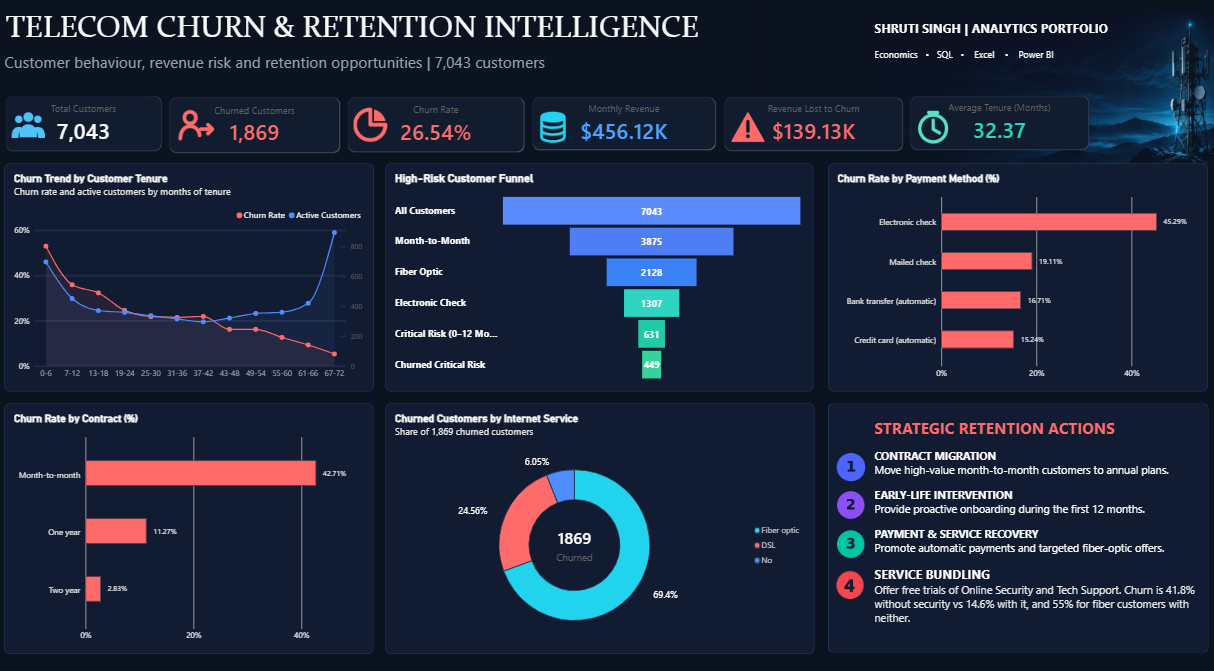

This screenshot's page, from the dashboard's own definition file:
{"tool":"powerbi","page":{"name":"Page 1","canvas":[2120,1178],"ordinal":0},"visuals":[{"type":"image","box":[1246.6,0,874.4,346.1],"z":0},{"type":"shape","box":[1441.7,710.5,660.2,432],"z":0,"group":"g1"},{"type":"textbox","box":[15.7,22.9,1230,87.1],"z":1000},{"type":"textbox","box":[1523,733.9,579.7,367.9],"z":1000,"group":"g1"},{"type":"textbox","box":[12.9,100,1130,52.9],"z":2000},{"type":"cardVisual","fields":{"Data":["telco_customer_churn_cleaned.Total Customers Display"]},"box":[16.2,177.5,270,96.2],"z":3000},{"type":"cardVisual","fields":{"Data":["telco_customer_churn_cleaned.Churned Customers Display"]},"box":[300,178.3,296.7,96.7],"z":4000},{"type":"cardVisual","fields":{"Data":["telco_customer_churn_cleaned.Churn Rate"]},"box":[608.3,178.3,306.7,95],"z":5000},{"type":"cardVisual","fields":{"Data":["telco_customer_churn_cleaned.Average Tenure"]},"box":[1586,178,310,94],"z":6000},{"type":"cardVisual","fields":{"Data":["telco_customer_churn_cleaned.Revenue Lost to Churn"]},"box":[1261.7,178.3,310,93.3],"z":7000},{"type":"cardVisual","fields":{"Data":["telco_customer_churn_cleaned.Monthly Revenue"]},"box":[928.3,178.3,318.3,91.7],"z":8000},{"type":"clusteredBarChart","title":"Churn Rate by Contract (%)","fields":{"Category":["telco_customer_churn_cleaned.Contract"],"Y":["telco_customer_churn_cleaned.Churn Rate"]},"box":[13,710.5,640.2,434.6],"z":9000},{"type":"clusteredBarChart","title":"Churn Rate by Payment Method (%)","fields":{"Category":["telco_customer_churn_cleaned.PaymentMethod"],"Y":["telco_customer_churn_cleaned.Churn Rate"]},"box":[1441.7,294.1,658.4,395.6],"z":10000},{"type":"lineChart","title":"Churn Trend by Customer Tenure","fields":{"Category":["telco_customer_churn_cleaned.Tenure Band"],"Y":["telco_customer_churn_cleaned.Churn Rate"],"Y2":["telco_customer_churn_cleaned.Active Customers"]},"box":[12.3,294.4,640.9,395.6],"z":11000},{"type":"donutChart","title":"Churned Customers by Internet Service","fields":{"Category":["telco_customer_churn_cleaned.InternetService"],"Y":["telco_customer_churn_cleaned.Total Customers"]},"box":[674,710.5,744.3,434.6],"z":12000},{"type":"funnel","title":"High-Risk Customer Funnel","fields":{"Category":["Risk Funnel Stages.Stage"],"Y":["Risk Funnel Stages.Risk Funnel Customers"]},"box":[674.6,294.4,742.1,395.6],"z":13000},{"type":"group","id":"g1","title":"Group 1","box":[1441.7,710.5,661,432],"z":14000},{"type":"textbox","box":[1523.3,43.3,471.7,95],"z":15000},{"type":"image","box":[0,194.3,108.6,62.9],"z":16000},{"type":"image","box":[288.9,194.4,115.6,68.9],"z":17000},{"type":"image","box":[596.7,195.6,108.9,63.3],"z":18000},{"type":"image","box":[910,200,107.8,63.3],"z":19000},{"type":"image","box":[1248.3,200,106.7,63.3],"z":20000},{"type":"image","box":[1568,200,110,62],"z":21000},{"type":"image","box":[1452.9,792.9,58.6,54.3],"z":22000},{"type":"image","box":[1455.7,860,52.9,55.7],"z":23000},{"type":"image","box":[1455.7,918.6,52.9,71.4],"z":24000},{"type":"image","box":[1418.6,965.7,124.3,122.9],"z":24001}]}

Visuals, with their boxes in screenshot pixels (x1, y1, x2, y2), scaled from the page's 2120x1178 canvas onto the 1214x671 screenshot:
image: bbox=[714, 0, 1213, 197]
shape: bbox=[826, 405, 1204, 651]
textbox: bbox=[9, 13, 713, 63]
textbox: bbox=[872, 418, 1204, 628]
textbox: bbox=[7, 57, 654, 87]
cardVisual - telco_customer_churn_cleaned.Total Customers Display: bbox=[9, 101, 164, 156]
cardVisual - telco_customer_churn_cleaned.Churned Customers Display: bbox=[172, 102, 342, 157]
cardVisual - telco_customer_churn_cleaned.Churn Rate: bbox=[348, 102, 524, 156]
cardVisual - telco_customer_churn_cleaned.Average Tenure: bbox=[908, 101, 1086, 155]
cardVisual - telco_customer_churn_cleaned.Revenue Lost to Churn: bbox=[723, 102, 900, 155]
cardVisual - telco_customer_churn_cleaned.Monthly Revenue: bbox=[532, 102, 714, 154]
"Churn Rate by Contract (%)" clusteredBarChart: bbox=[7, 405, 374, 652]
"Churn Rate by Payment Method (%)" clusteredBarChart: bbox=[826, 168, 1203, 393]
"Churn Trend by Customer Tenure" lineChart: bbox=[7, 168, 374, 393]
"Churned Customers by Internet Service" donutChart: bbox=[386, 405, 812, 652]
"High-Risk Customer Funnel" funnel: bbox=[386, 168, 811, 393]
"Group 1" group: bbox=[826, 405, 1204, 651]
textbox: bbox=[872, 25, 1142, 79]
image: bbox=[0, 111, 62, 147]
image: bbox=[165, 111, 232, 150]
image: bbox=[342, 111, 404, 147]
image: bbox=[521, 114, 583, 150]
image: bbox=[715, 114, 776, 150]
image: bbox=[898, 114, 961, 149]
image: bbox=[832, 452, 866, 483]
image: bbox=[834, 490, 864, 522]
image: bbox=[834, 523, 864, 564]
image: bbox=[812, 550, 884, 620]
